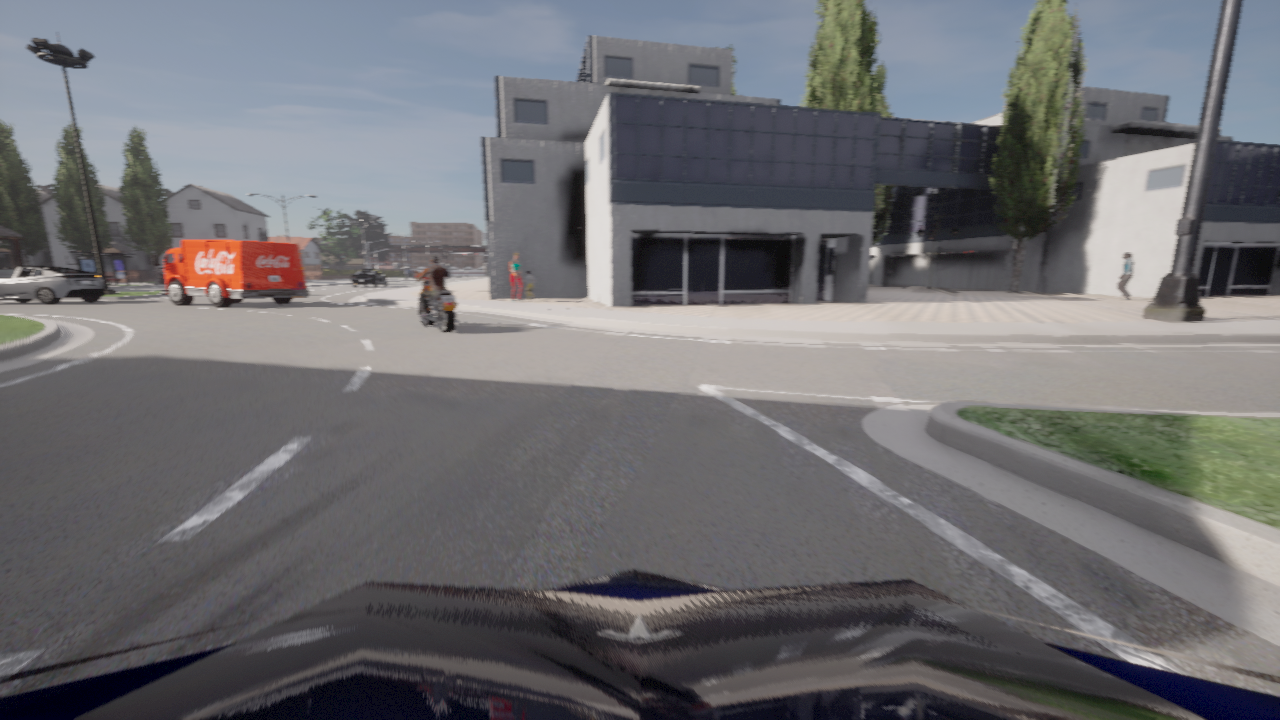cyclist: (0, 569, 1279, 719), (152, 239, 308, 307), (0, 266, 104, 304), (413, 270, 458, 332), (351, 269, 387, 287)
pedestrian: (1118, 252, 1134, 299), (510, 251, 522, 302), (523, 270, 535, 301)
